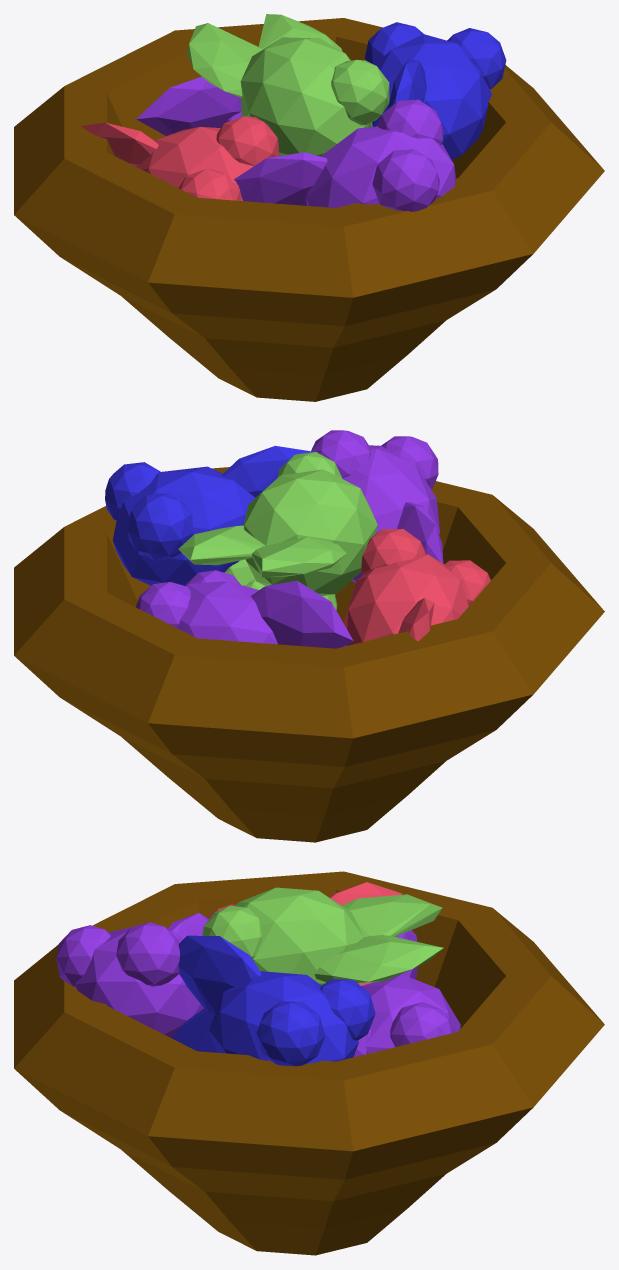
File: FishBasket.fbx
3 views of the same model, one above another, from view 1: azimuth 30°, elevation 25°; view 2: azimuth 150°, elevation 25°; view 3: azimuth 270°, elevation 25° (orthographic).
Parts seen in each view (by area): view 1: Cylinder; view 2: Cylinder; view 3: Cylinder.
Part boxes in pixels (x1,y1,x2,y2): Cylinder: (14, 14, 604, 401); Cylinder: (14, 430, 604, 842); Cylinder: (14, 871, 604, 1255).
Size of the model in its own units: 391 by 234 by 385.
